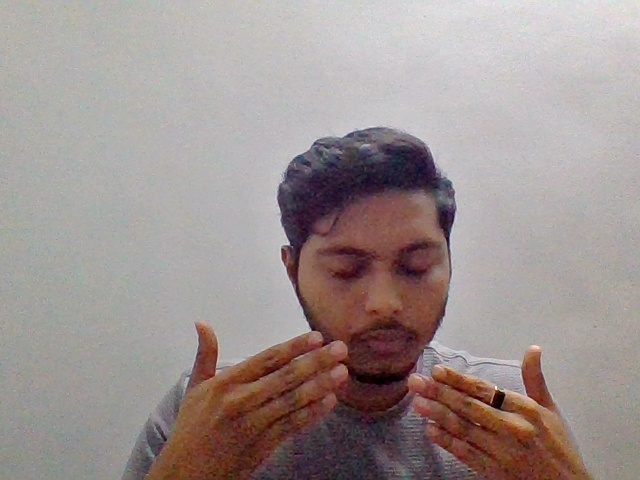Thanks: (145, 317, 597, 480)
